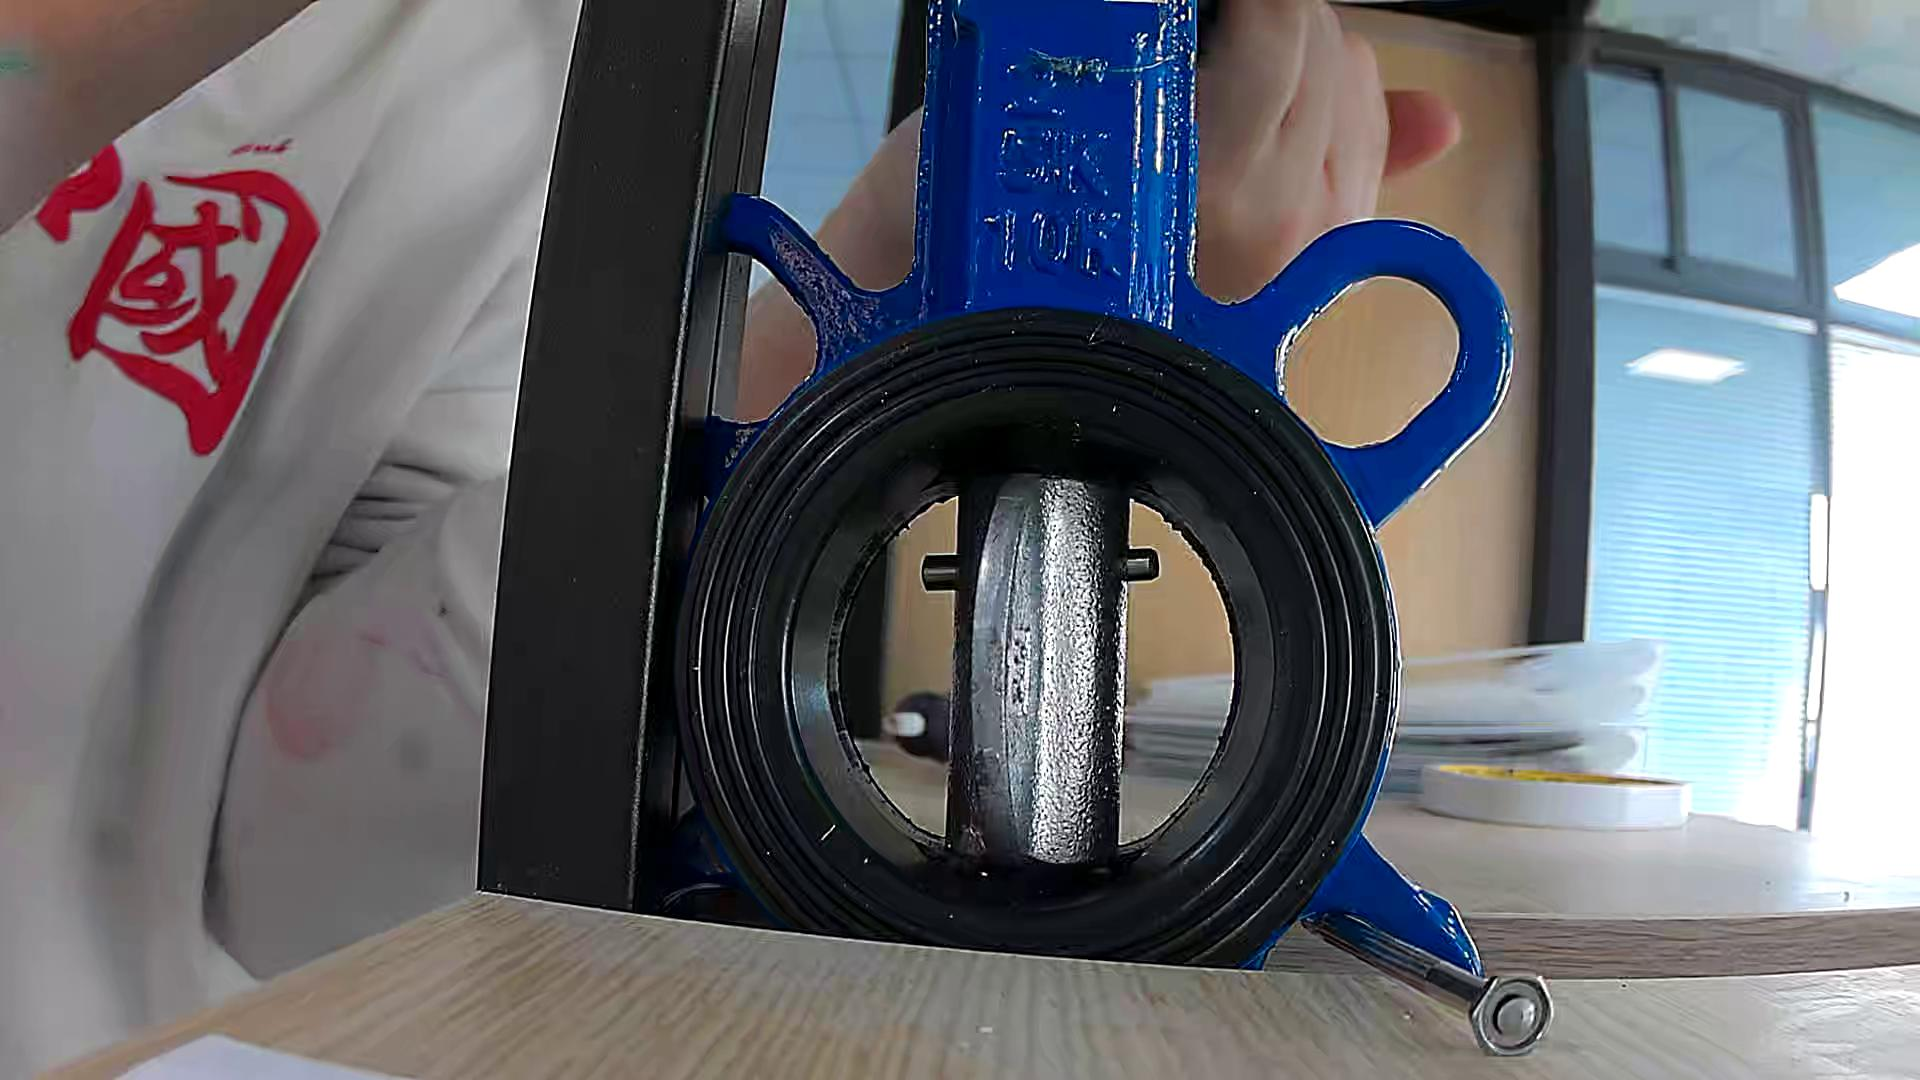valve: (948, 472, 1129, 862)
